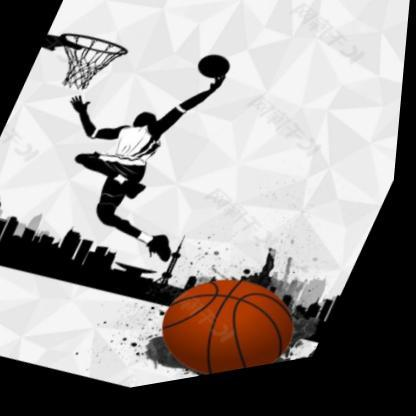basketball: (147, 255, 320, 392)
